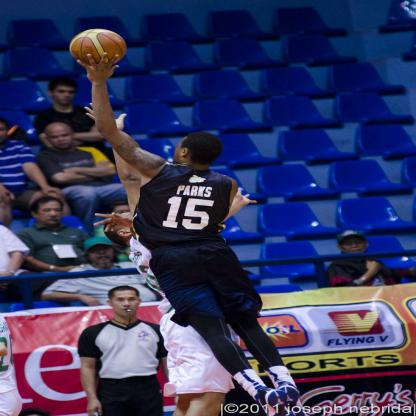Ball: (69, 29, 128, 66)
